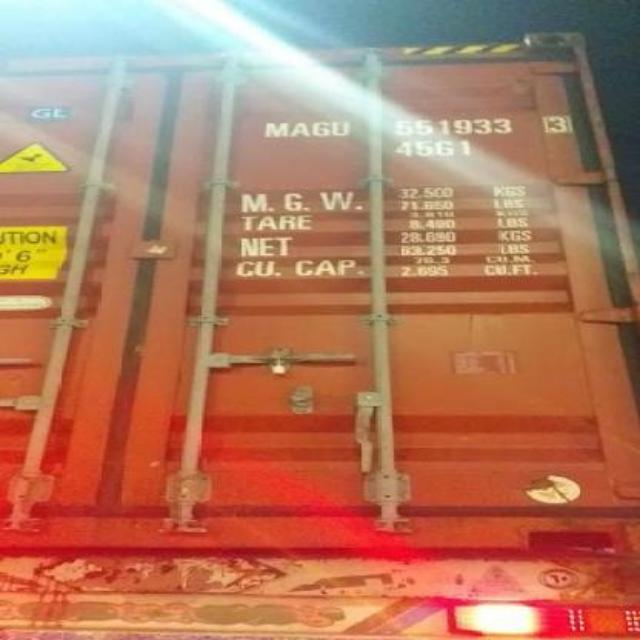1: (434, 111, 450, 137)
3: (490, 109, 514, 138), (542, 114, 568, 136), (472, 112, 490, 138)
5: (390, 115, 414, 141), (414, 112, 436, 138)
9: (452, 109, 472, 141)
A: (288, 118, 310, 142)
G: (308, 112, 332, 142)
M: (260, 117, 290, 141)
U: (331, 117, 352, 141)
